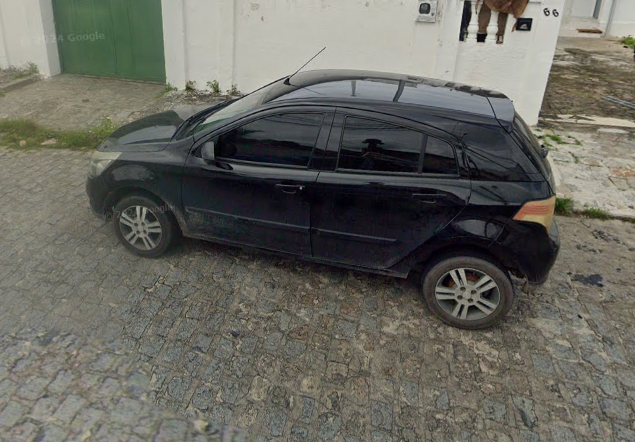car: (84, 46, 563, 334)
